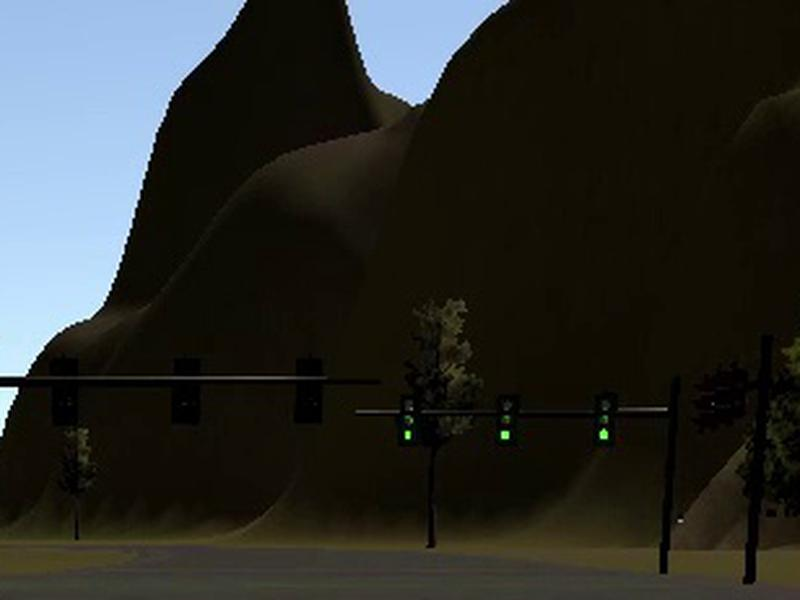Green: (592, 392, 619, 447), (495, 392, 520, 445), (397, 393, 421, 446)
